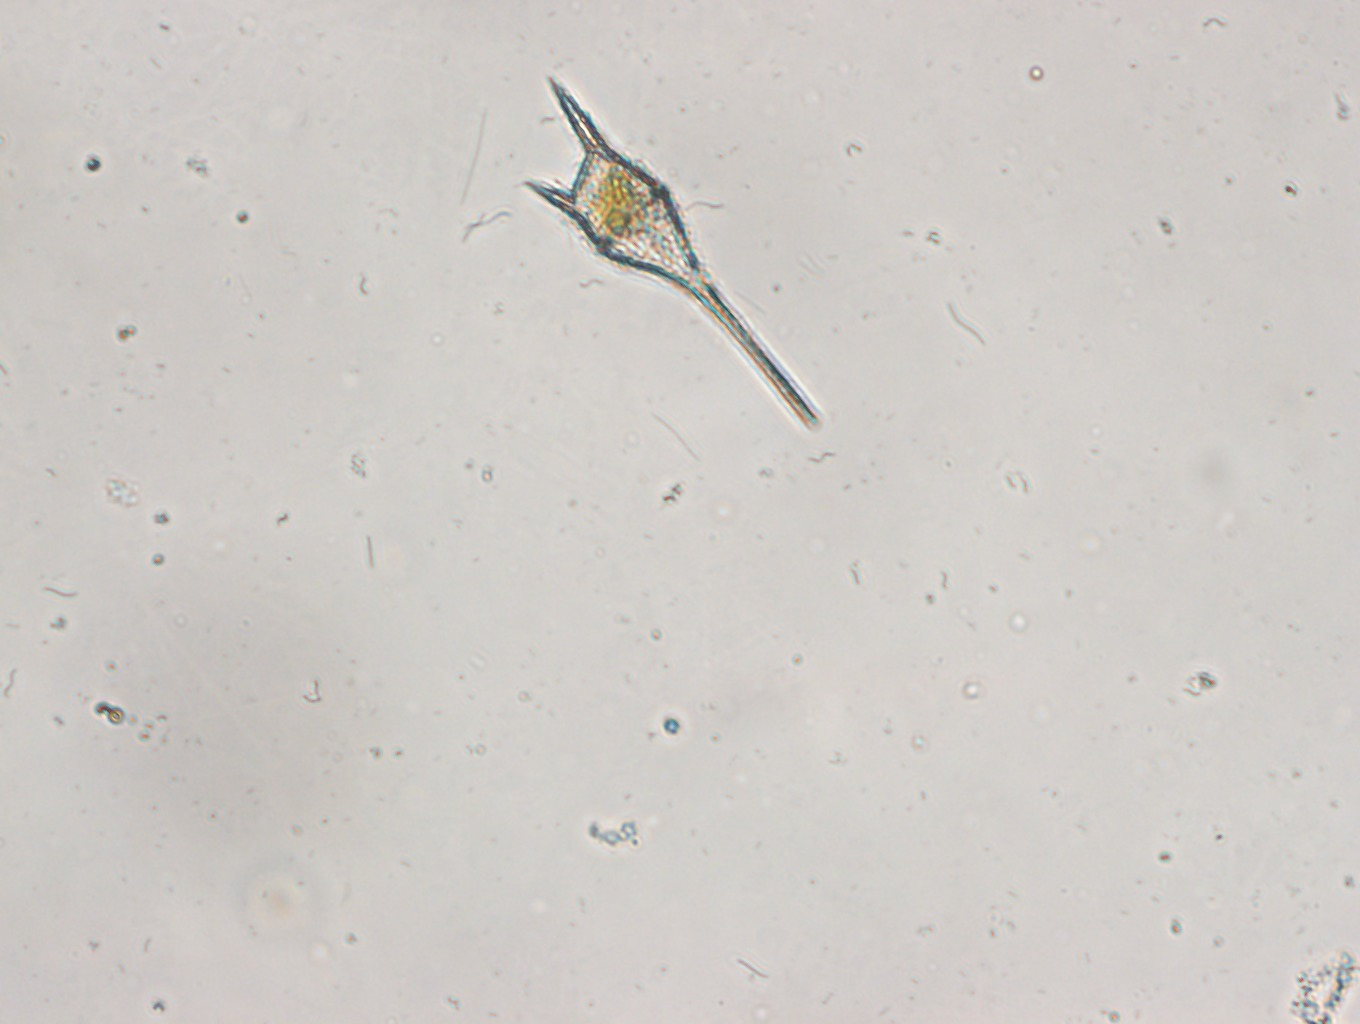ceratium furca: (519, 65, 824, 430)
